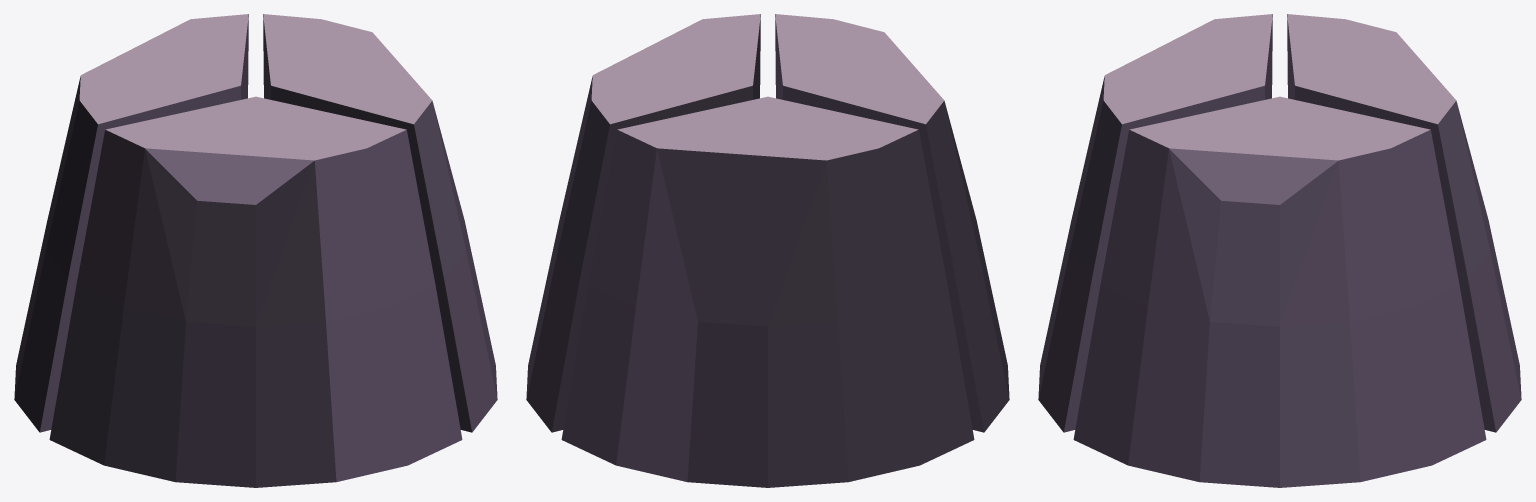
The model's file is TW_PROP_STUMP_SPLIT_B_LOD0.glb.
3 renders of one model, left to right at view 1: azimuth 30°, elevation 25°; view 2: azimuth 150°, elevation 25°; view 3: azimuth 270°, elevation 25°, orthographic.
Parts seen in each view (by area): view 1: TW_PROP_STUMP_SPLIT_B_LOD0; view 2: TW_PROP_STUMP_SPLIT_B_LOD0; view 3: TW_PROP_STUMP_SPLIT_B_LOD0.
Part boxes in pixels (x1,y1,x2,y2): TW_PROP_STUMP_SPLIT_B_LOD0: [14, 14, 497, 487]; TW_PROP_STUMP_SPLIT_B_LOD0: [526, 14, 1009, 487]; TW_PROP_STUMP_SPLIT_B_LOD0: [1038, 14, 1521, 487].
Size of the model in its own units: 0.9886 by 0.66 by 0.9782.
Materials: 1 (1 with a texture image).
